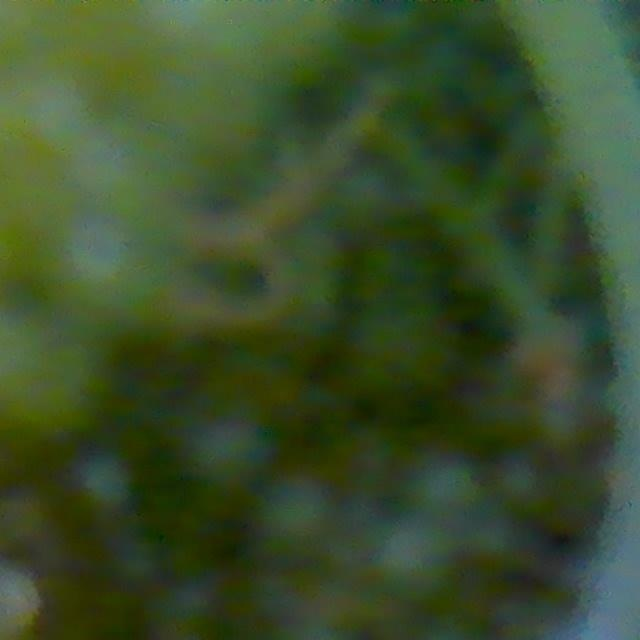SeaGrape: (39, 213, 153, 333), (372, 513, 456, 598), (253, 481, 335, 566), (180, 413, 269, 491), (412, 454, 480, 518), (75, 453, 132, 510)
